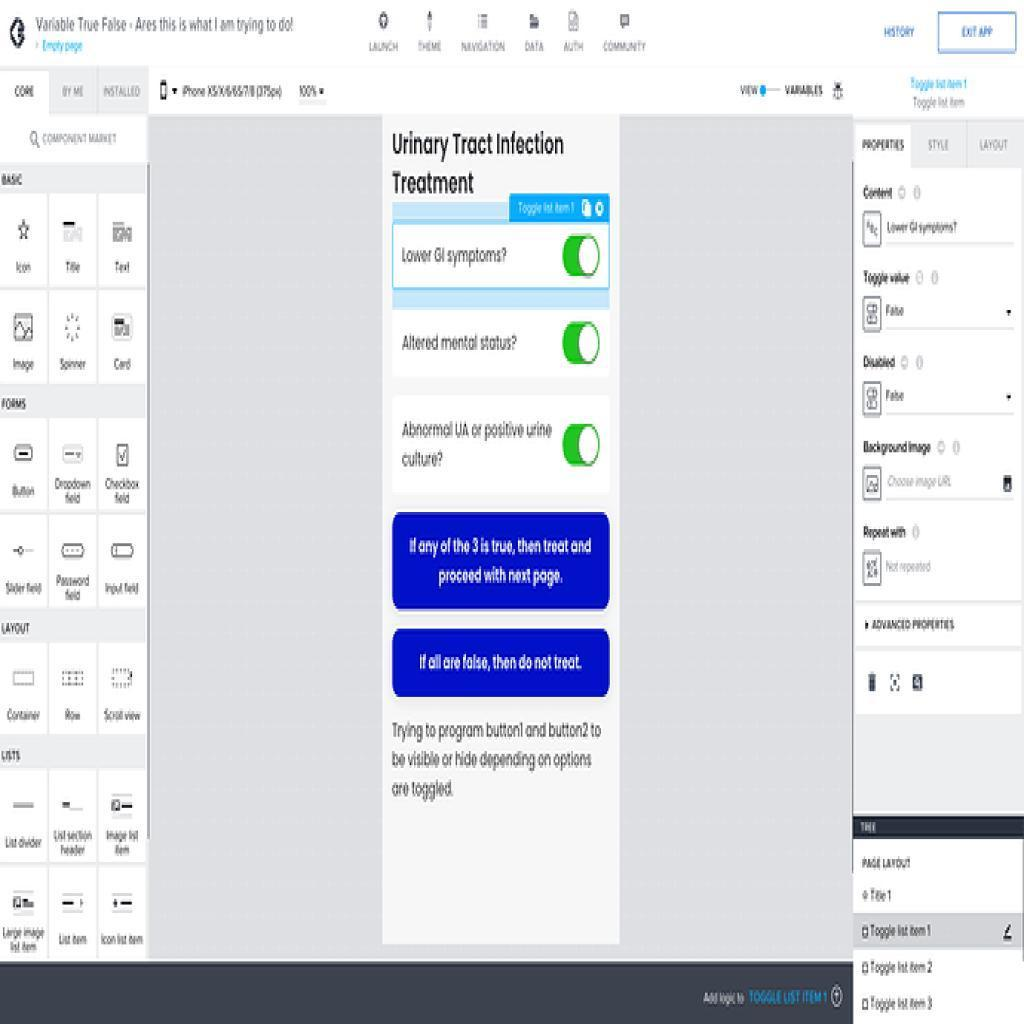button: (938, 11, 1017, 54)
icon: (564, 8, 586, 38), (614, 9, 637, 36), (377, 7, 395, 34), (421, 11, 440, 34), (477, 7, 493, 33), (527, 9, 541, 36)
switch: (564, 322, 602, 366), (563, 236, 601, 278), (564, 425, 601, 468)
